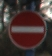No entry: (5, 6, 46, 51)
